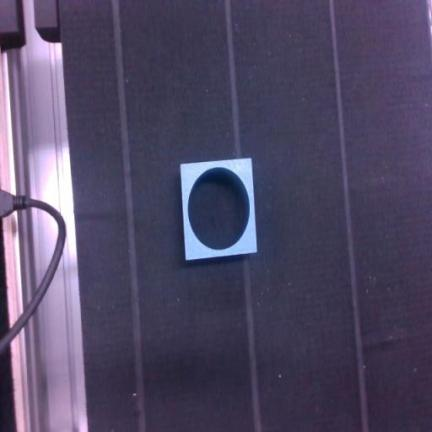hole: (181, 159, 256, 259)
